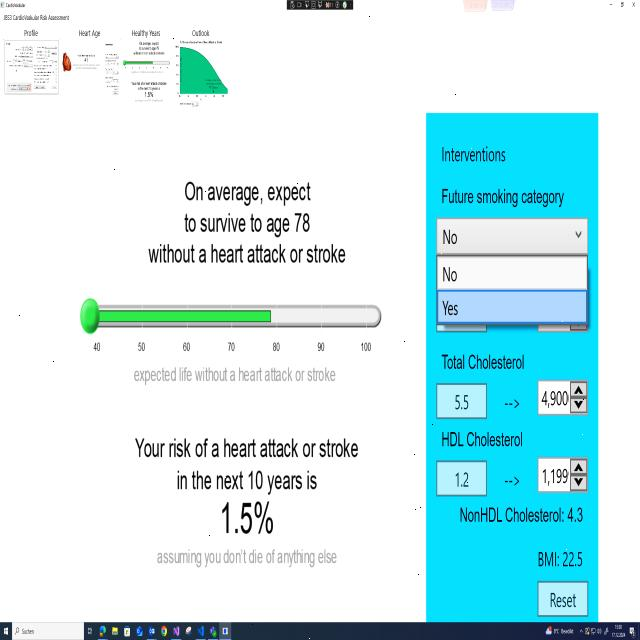button: (536, 577, 589, 620), (616, 0, 629, 13), (629, 0, 640, 13), (605, 0, 616, 11)
dropdownMenu: (433, 218, 593, 323)
input: (434, 380, 491, 423), (433, 458, 491, 498), (12, 622, 84, 640)
label: (455, 501, 589, 531), (435, 184, 568, 209), (437, 426, 528, 454), (439, 348, 531, 372), (439, 141, 512, 170), (532, 547, 588, 569), (2, 13, 72, 24), (498, 469, 524, 492), (500, 391, 524, 415), (126, 26, 164, 39), (76, 24, 105, 38), (186, 25, 215, 38), (22, 25, 43, 38)
menuItem: (440, 289, 466, 321), (438, 260, 464, 286)
upDown: (534, 453, 592, 498), (536, 375, 591, 420)
